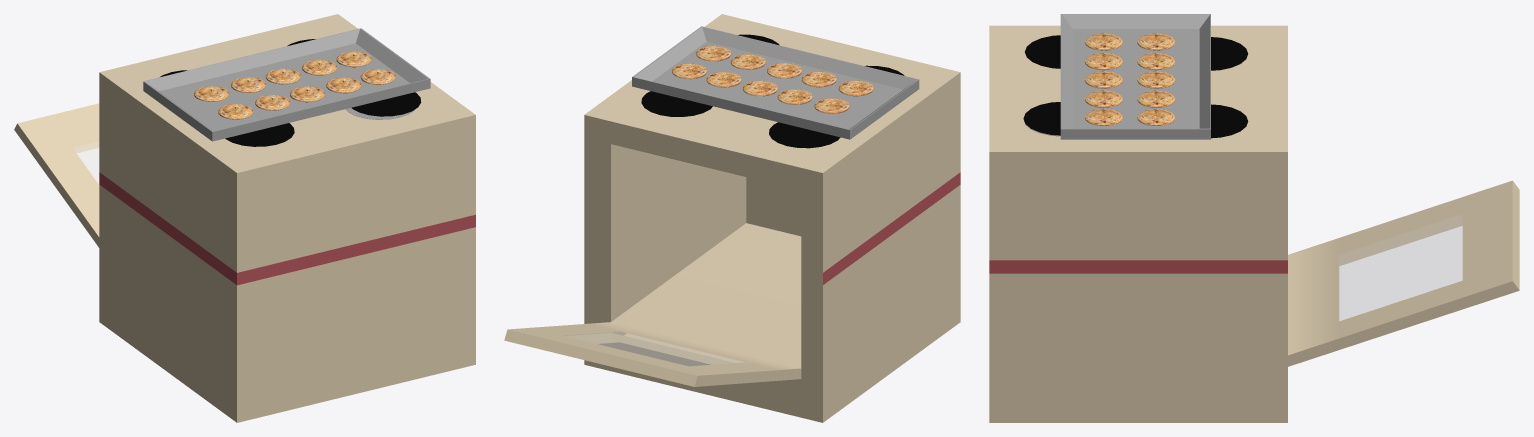
File: cookie.fbx
3 views of the same model, side by side, from view 1: azimuth 30°, elevation 25°; view 2: azimuth 150°, elevation 25°; view 3: azimuth 270°, elevation 25° (orthographic). The views are drawn at different scales.
Parts seen in each view (by area): view 1: pCube2, pCube3, pasted__pSphere1 (×5), pasted__pasted__pSphere1 (×4), pCylinder1, pCylinder4, pSphere1; view 2: pCube2, pCube3, pasted__pSphere1 (×5), pasted__pasted__pSphere1 (×4), pCylinder3, pCylinder2, pSphere1; view 3: pCube2, pCube3, pasted__pSphere1 (×5), pasted__pasted__pSphere1 (×4), pCylinder1, pCylinder3, pCylinder2, pCylinder4, pSphere1.
Part boxes in pixels (bbox=[...]): pCube2: bbox=[14, 14, 475, 422]; pCube3: bbox=[143, 28, 430, 141]; pasted__pSphere1 (×5): bbox=[218, 51, 371, 119]; pasted__pasted__pSphere1 (×4): bbox=[255, 69, 395, 110]; pCylinder1: bbox=[351, 92, 421, 116]; pCylinder4: bbox=[225, 123, 294, 146]; pSphere1: bbox=[194, 86, 228, 101]; pCube2: bbox=[504, 14, 960, 422]; pCube3: bbox=[632, 26, 919, 139]; pasted__pSphere1 (×5): bbox=[672, 63, 873, 104]; pasted__pasted__pSphere1 (×4): bbox=[696, 45, 836, 87]; pCylinder3: bbox=[769, 122, 840, 148]; pCylinder2: bbox=[641, 91, 712, 116]; pSphere1: bbox=[814, 98, 849, 113]; pCube2: bbox=[989, 25, 1519, 422]; pCube3: bbox=[1060, 14, 1210, 139]; pasted__pSphere1 (×5): bbox=[1085, 33, 1175, 125]; pasted__pasted__pSphere1 (×4): bbox=[1084, 53, 1122, 125]; pCylinder1: bbox=[1023, 102, 1060, 135]; pCylinder3: bbox=[1211, 37, 1247, 70]; pCylinder2: bbox=[1211, 104, 1248, 138]; pCylinder4: bbox=[1025, 35, 1060, 68]; pSphere1: bbox=[1137, 33, 1175, 50].
Size of the model in its own units: 3.2 by 3.39 by 5.68.
15 materials, 10 textured.
